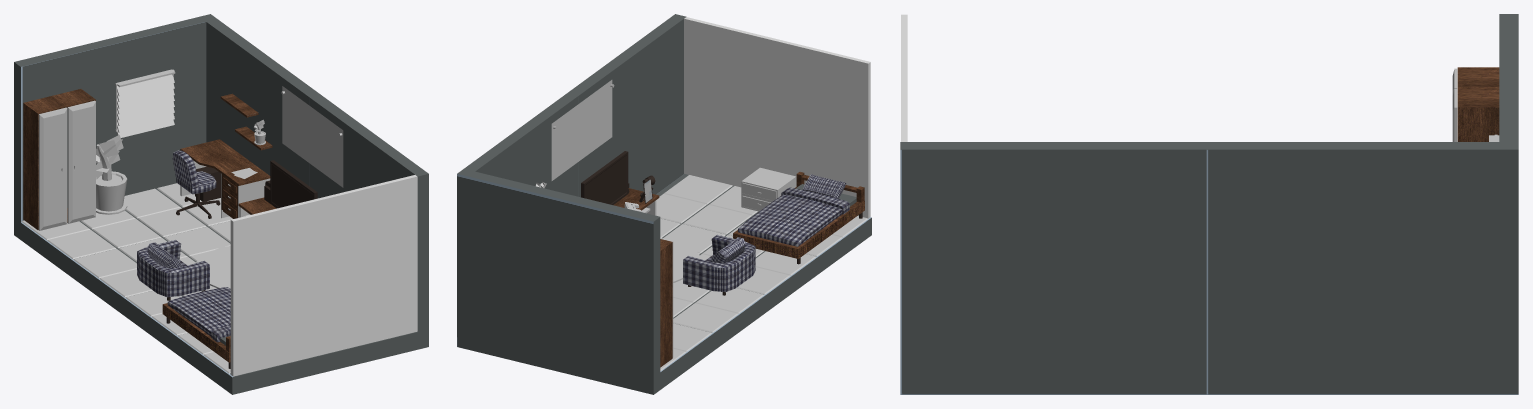
File: manRoom_last 1.FBX
3 renders of one model, left to right at view 1: azimuth 30°, elevation 25°; view 2: azimuth 150°, elevation 25°; view 3: azimuth 270°, elevation 25°, orthographic. The views are drawn at different scales.
Parts seen in each view (by area): view 1: tex1, mirror2, tex2, Door1, Door2; view 2: tex1, mirror2, tex2, manroom_drawer_a_001; view 3: tex1, mirror2.
Part boxes in pixels (x1=…): tex1: x1=14, y1=14, x2=428, y2=394; mirror2: x1=230, y1=175, x2=417, y2=376; tex2: x1=21, y1=69, x2=343, y2=373; Door1: x1=38, y1=107, x2=67, y2=230; Door2: x1=67, y1=100, x2=95, y2=223; tex1: x1=457, y1=14, x2=871, y2=394; mirror2: x1=684, y1=17, x2=870, y2=218; tex2: x1=536, y1=80, x2=867, y2=370; manroom_drawer_a_001: x1=742, y1=182, x2=776, y2=200; tex1: x1=900, y1=14, x2=1518, y2=394; mirror2: x1=901, y1=14, x2=907, y2=141.
Bounding box in the file's own units: 102 × 85.95 × 196.
